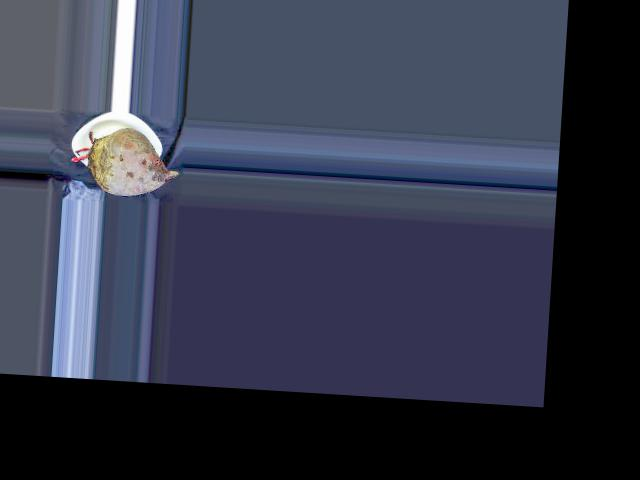beet: (69, 124, 180, 197)
